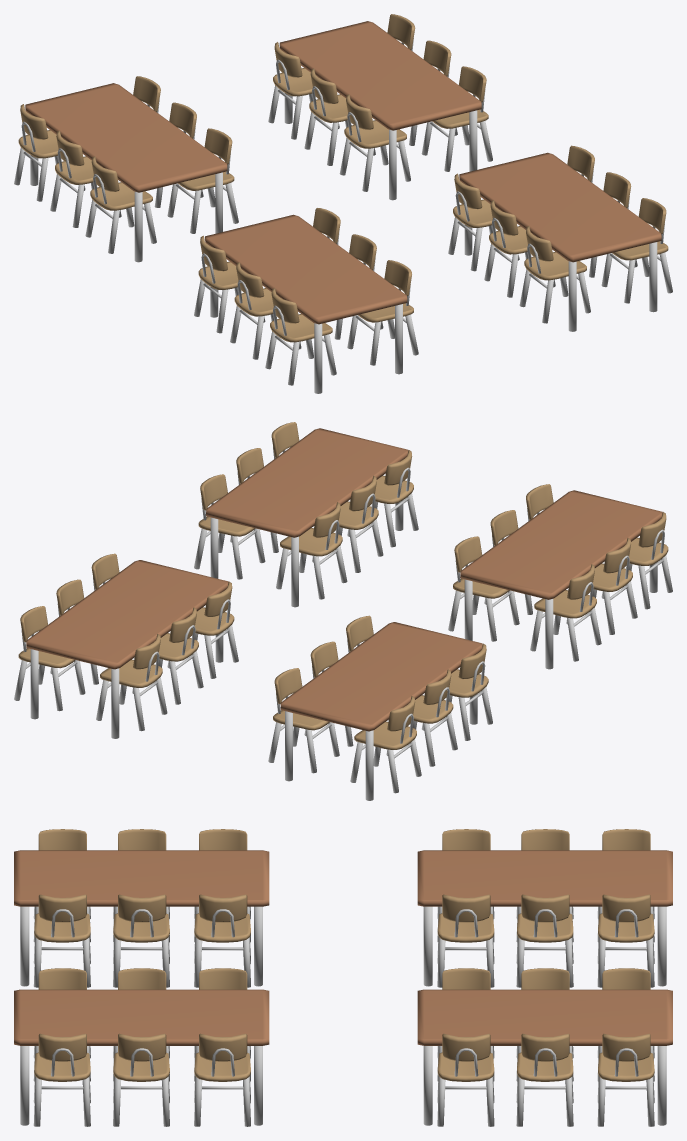
File: d-roomcomp-d-mensa-in.glb
3 views of the same model, one above another, from view 1: azimuth 30°, elevation 25°; view 2: azimuth 150°, elevation 25°; view 3: azimuth 270°, elevation 25° (orthographic). The views are drawn at different scales.
Visible parts, largest first — view 1: Sub_Env_Mensa.003, Sub_Env_Mensa.005, Sub_Env_Mensa.004, Sub_Env_Mensa.002; view 2: Sub_Env_Mensa.002, Sub_Env_Mensa.004, Sub_Env_Mensa.005, Sub_Env_Mensa.003; view 3: Sub_Env_Mensa.002, Sub_Env_Mensa.003, Sub_Env_Mensa.004, Sub_Env_Mensa.005.
Boxes of the visible parts, <box> form: Sub_Env_Mensa.003: <box>448,145,672,331</box>; Sub_Env_Mensa.005: <box>194,208,418,393</box>; Sub_Env_Mensa.004: <box>14,76,238,262</box>; Sub_Env_Mensa.002: <box>268,14,492,200</box>; Sub_Env_Mensa.002: <box>14,553,238,738</box>; Sub_Env_Mensa.004: <box>268,615,492,800</box>; Sub_Env_Mensa.005: <box>448,484,672,669</box>; Sub_Env_Mensa.003: <box>194,422,418,607</box>; Sub_Env_Mensa.002: <box>417,968,672,1126</box>; Sub_Env_Mensa.003: <box>14,968,269,1126</box>; Sub_Env_Mensa.004: <box>417,829,672,987</box>; Sub_Env_Mensa.005: <box>14,829,269,987</box>.
Bounding box in the file's own units: 5.38 × 1.18 × 7.08.
1 material, 1 textured.
